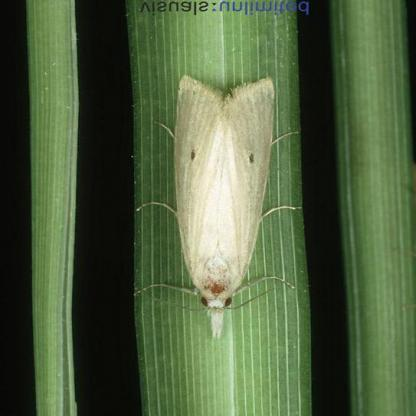stem-borer: (144, 74, 296, 340)
